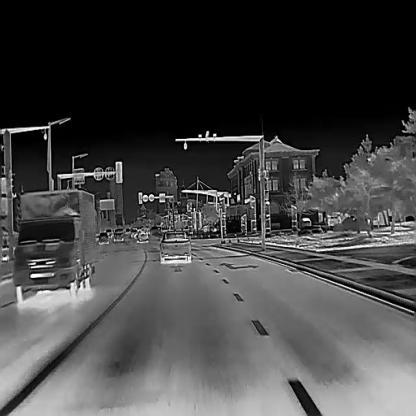car: (159, 228, 191, 262), (135, 229, 148, 243), (112, 228, 124, 242), (98, 232, 108, 244), (299, 217, 311, 227), (130, 228, 137, 237), (105, 228, 111, 236), (125, 227, 130, 235)
truck: (11, 187, 96, 297)
